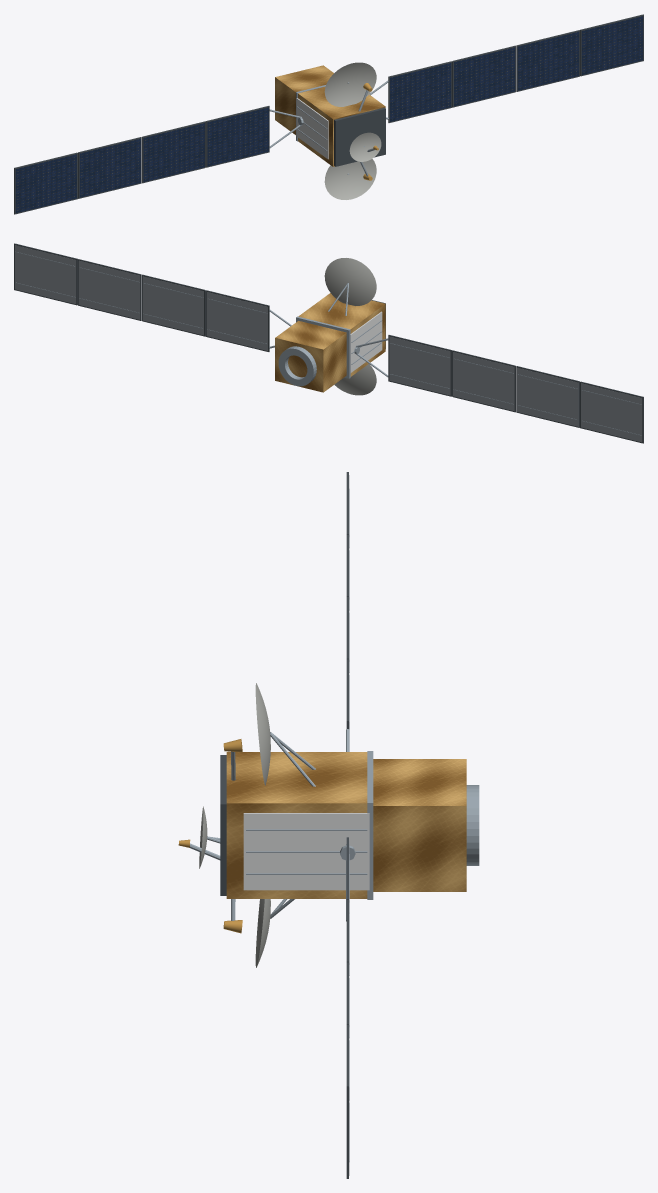
The model's file is ref-dfh-3e-55239.glb.
3 views of the same model, one above another, from view 1: azimuth 30°, elevation 25°; view 2: azimuth 150°, elevation 25°; view 3: azimuth 270°, elevation 25° (orthographic). The views are drawn at different scales.
Visible parts, largest first — view 1: Solar cell panel (×8), Communications reflector (×2), Solar panel frame (×8), Earth-facing deck, Service module, Payload module, Radiator face, Deck-mounted reflector; view 2: Rear array substrate (×8), Service module, Solar panel frame (×8), Communications reflector (×2), Payload module, Radiator face, Launch adapter ring, Module interface; view 3: Service module, Payload module, Radiator face, Launch adapter ring, Earth-facing deck.
Part boxes in pixels (x1,y1,x2,y2): Solar cell panel (×8): (15, 16, 643, 213); Communications reflector (×2): (324, 62, 376, 199); Solar panel frame (×8): (14, 14, 643, 214); Earth-facing deck: (334, 107, 385, 166); Service module: (275, 65, 333, 134); Payload module: (298, 87, 385, 166); Radiator face: (296, 98, 328, 159); Deck-mounted reflector: (349, 132, 381, 161); Rear array substrate (×8): (15, 245, 642, 442); Service module: (275, 321, 346, 392); Solar panel frame (×8): (14, 243, 643, 443); Communications reflector (×2): (324, 258, 376, 395); Payload module: (298, 293, 385, 376); Radiator face: (350, 311, 382, 373); Launch adapter ring: (278, 346, 316, 386); Module interface: (296, 316, 350, 378); Service module: (373, 759, 466, 891); Payload module: (226, 752, 367, 898); Radiator face: (243, 813, 369, 890); Launch adapter ring: (466, 785, 479, 865); Earth-facing deck: (220, 755, 226, 895).
Size of the model in its own units: 29.97 by 6.19 by 6.19.
Materials: 8 (2 with a texture image).
